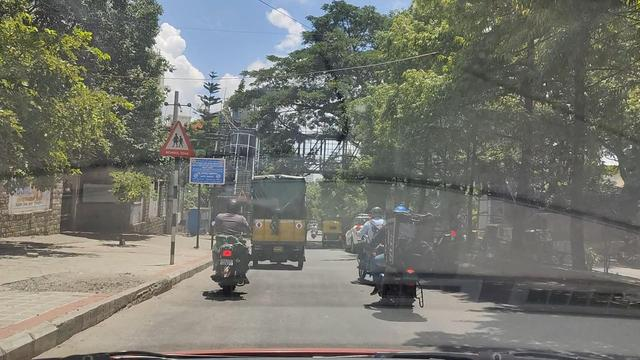HMV: (246, 172, 310, 270)
